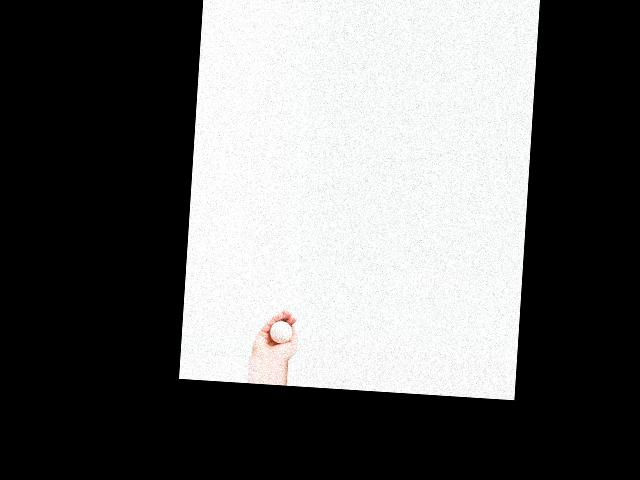egg: (269, 320, 292, 343)
